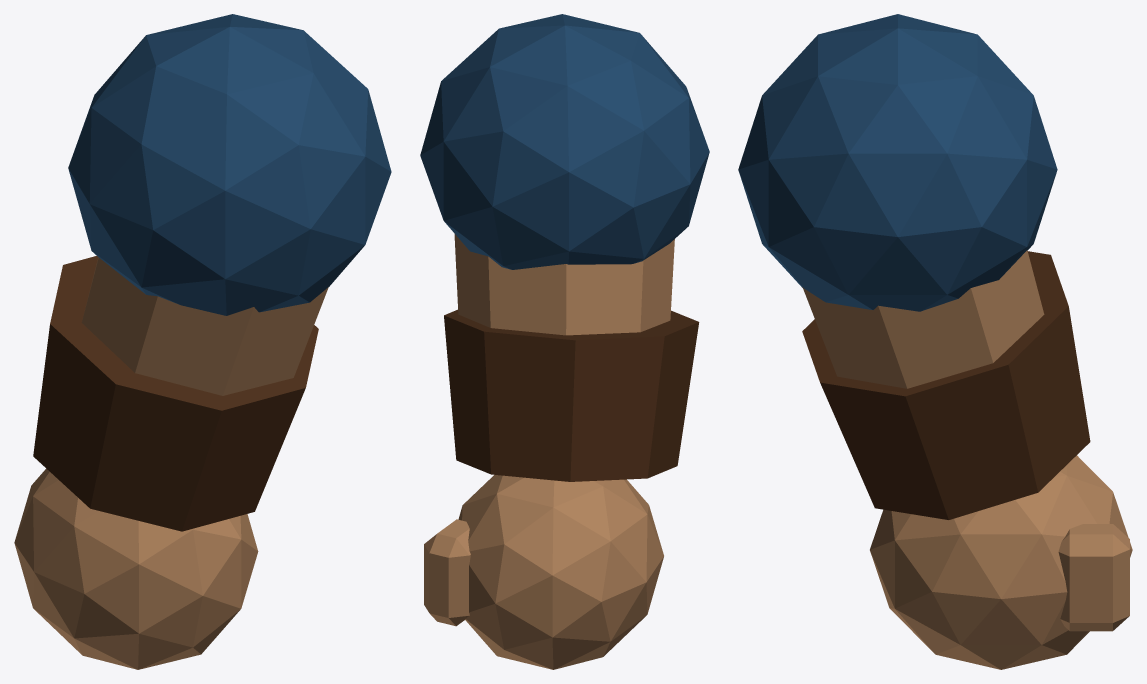
The model's file is ForearmLeft.glb.
3 renders of one model, left to right at view 1: azimuth 30°, elevation 25°; view 2: azimuth 150°, elevation 25°; view 3: azimuth 270°, elevation 25°, orthographic. The views are drawn at different scales.
Parts seen in each view (by area): view 1: Sculpture; view 2: Sculpture; view 3: Sculpture.
Boxes of the visible parts, left/top/right/bottom form: Sculpture: left=14, top=14, right=391, bottom=669; Sculpture: left=420, top=14, right=709, bottom=669; Sculpture: left=738, top=14, right=1132, bottom=669.
Bounding box in the file's own units: 0.1733 × 0.383 × 0.21.
